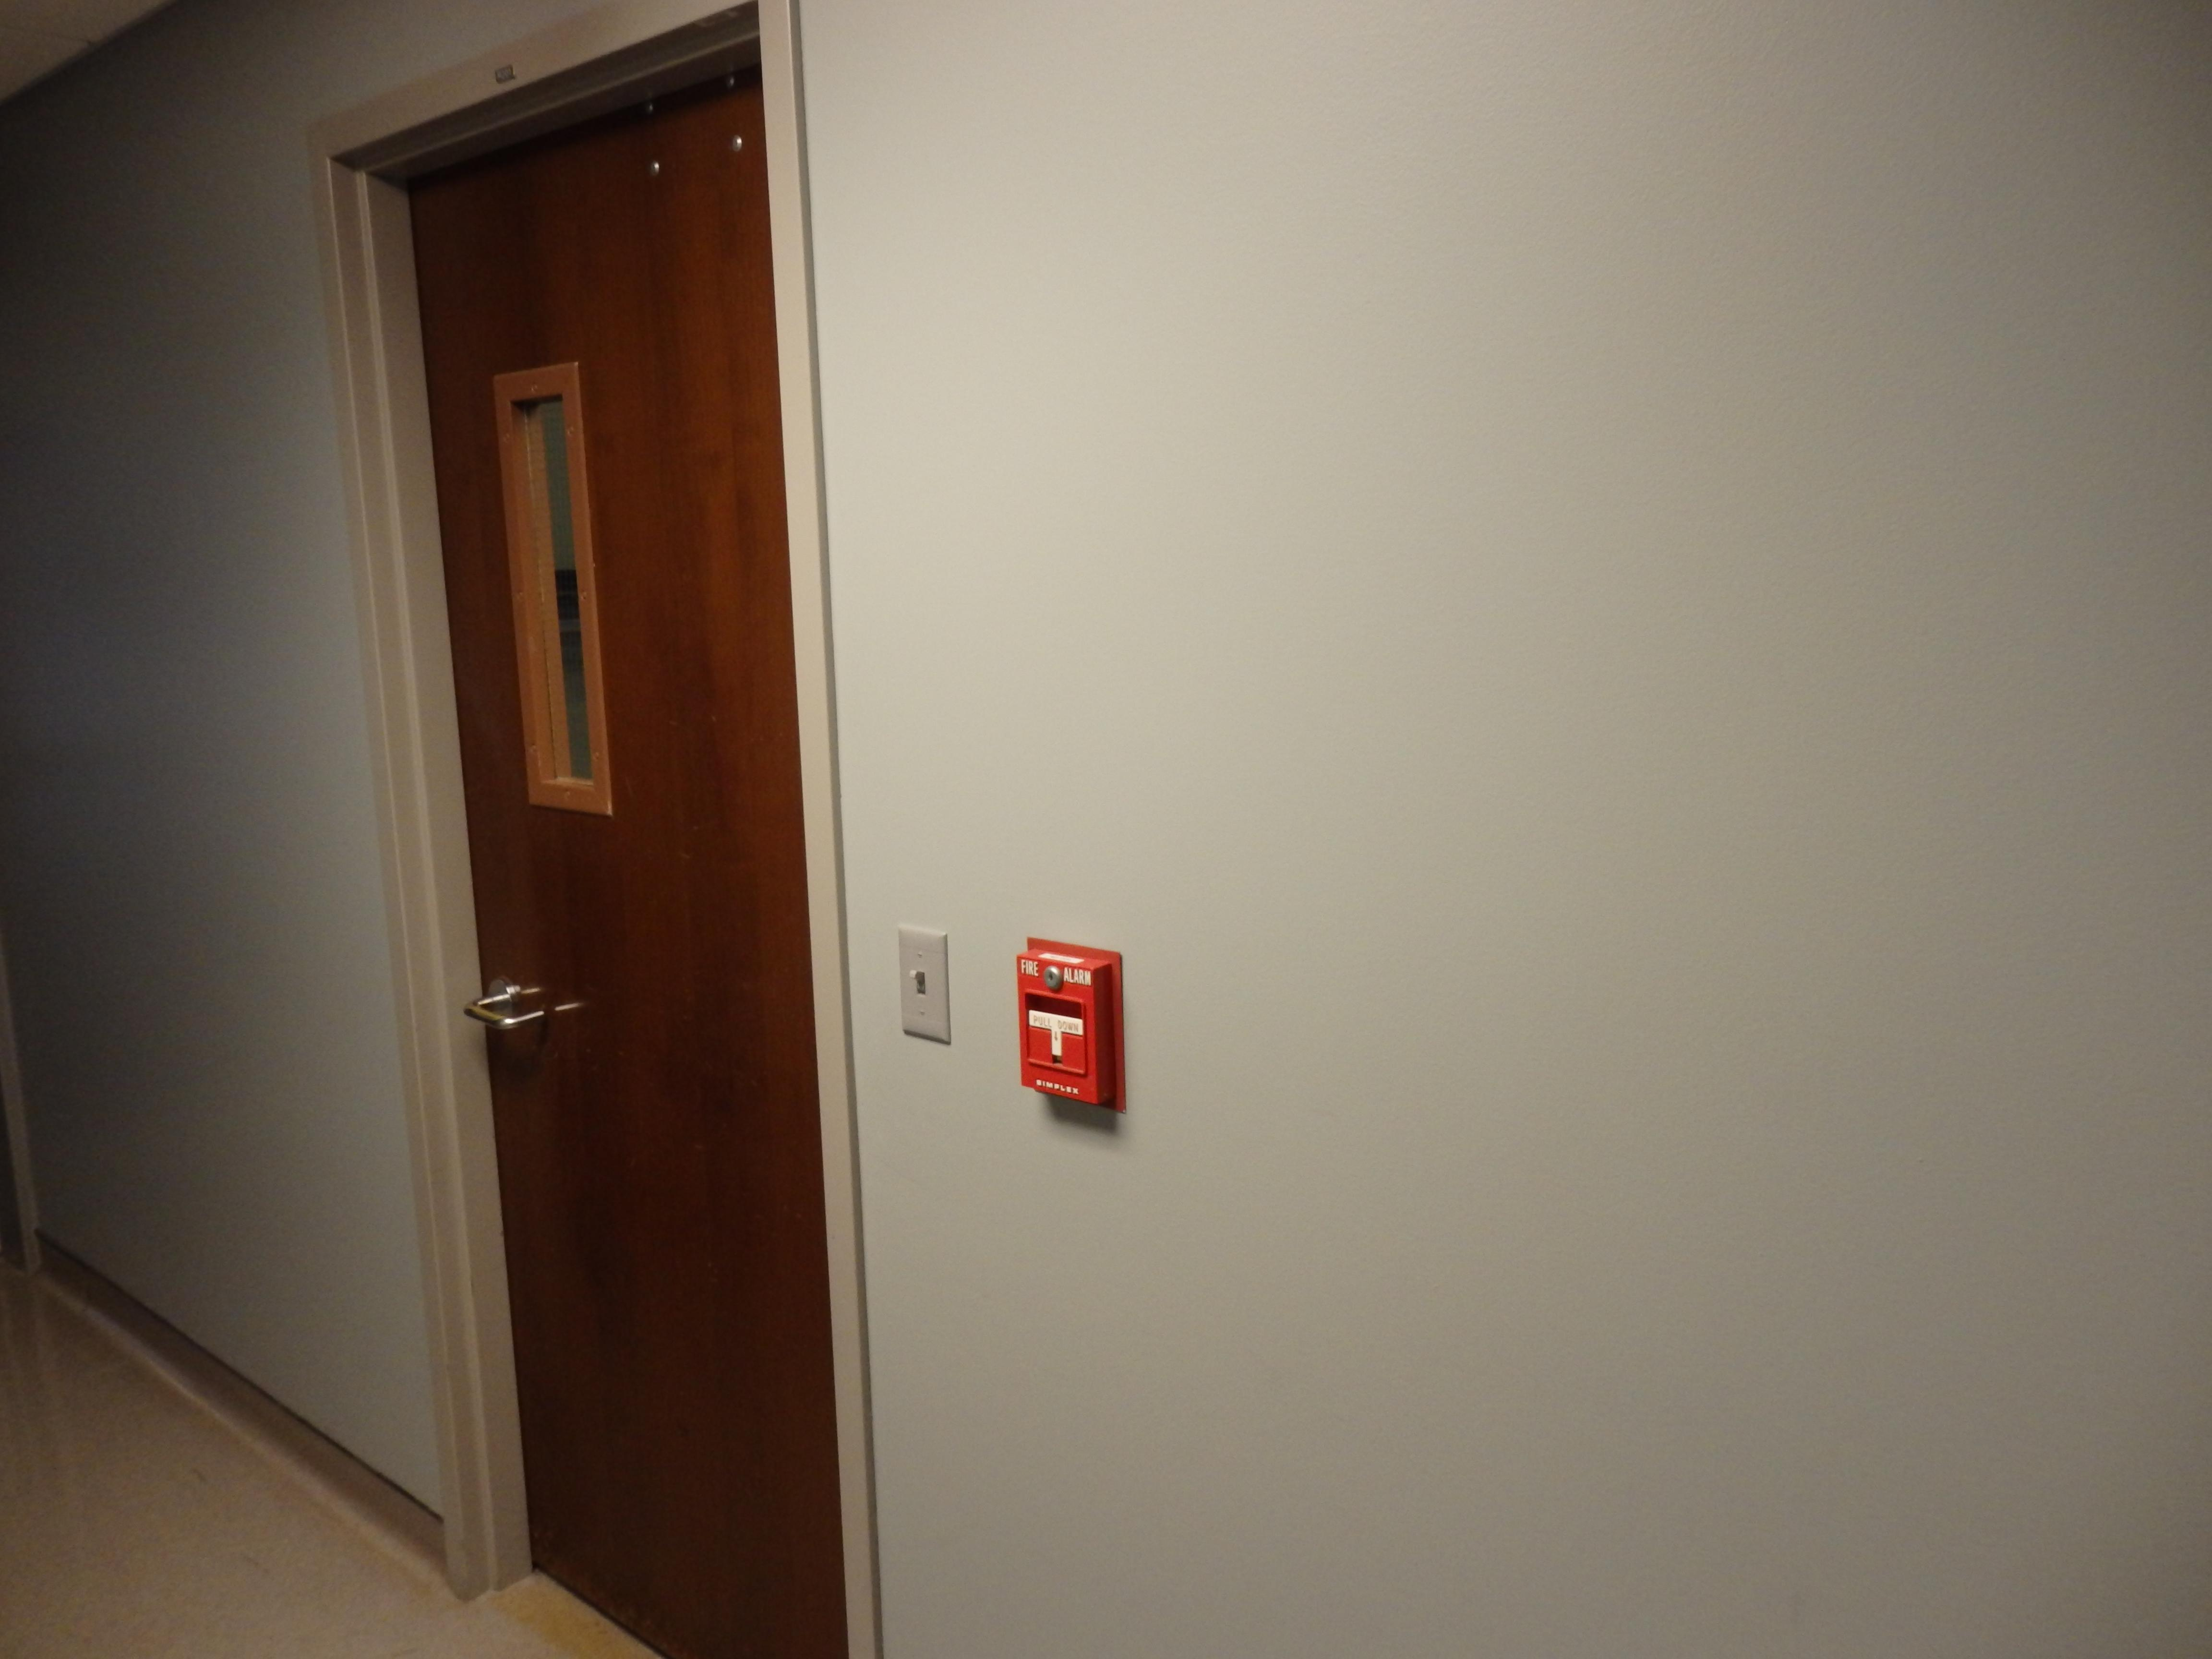door: (416, 192, 810, 1624)
handle: (462, 979, 556, 1049)
